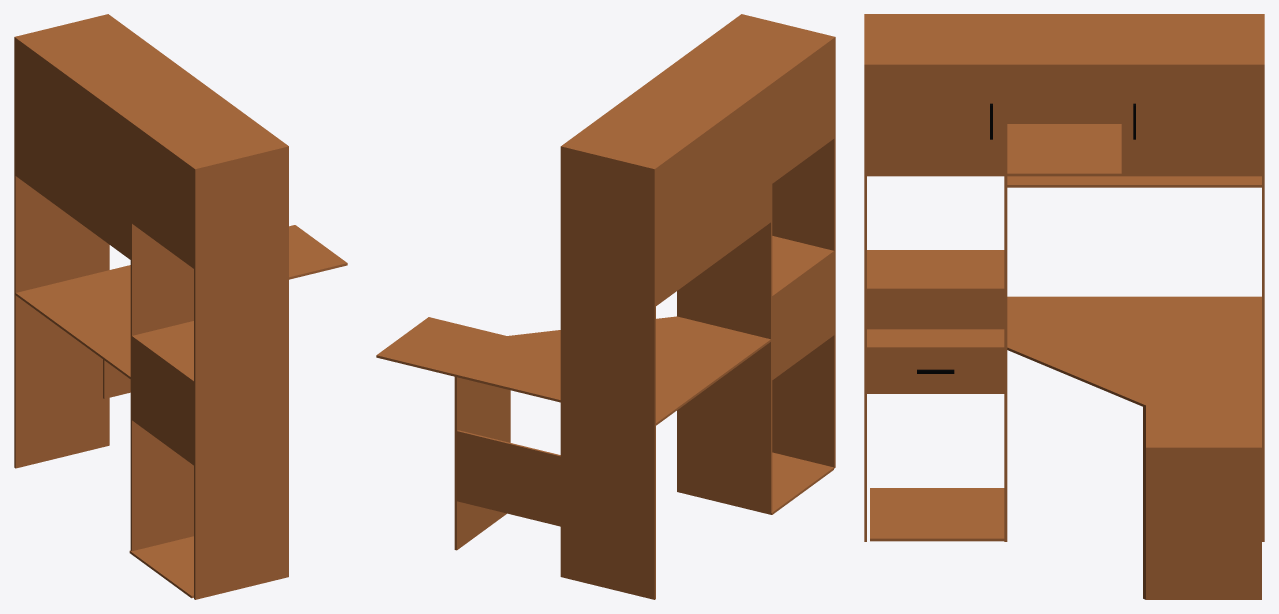
The model's file is computerWorkstation.fbx.
The picture shows the model from 3 angles, left to right: view 1: azimuth 30°, elevation 25°; view 2: azimuth 150°, elevation 25°; view 3: azimuth 270°, elevation 25°; orthographic projection. The views are drawn at different scales.
Parts seen in each view (by area): view 1: Couche:OBJECT015, Couche:OBJECT018, Couche:OBJECT003, Couche:OBJECT006, Couche:OBJECT016, Couche:OBJECT007, Couche:OBJECT001, Couche:OBJECT010, Couche:OBJECT014, Couche:OBJECT017, Couche:OBJECT012, Couche:OBJECT000 (+6 smaller); view 2: Couche:OBJECT018, Couche:OBJECT016, Couche:OBJECT015, Couche:OBJECT001, Couche:OBJECT007, Couche:OBJECT022, Couche:OBJECT010, Couche:OBJECT003, Couche:OBJECT006, Couche:OBJECT014, Couche:OBJECT017, Couche:OBJECT009 (+7 smaller); view 3: Couche:OBJECT007, Couche:OBJECT016, Couche:OBJECT015, Couche:OBJECT009, Couche:OBJECT000, Couche:OBJECT002, Couche:OBJECT013, Couche:OBJECT014, Couche:OBJECT017, Couche:OBJECT005, Couche:OBJECT004, Couche:OBJECT008 (+5 smaller).
Boxes of the visible parts, x1=… form: Couche:OBJECT015: x1=130, y1=99, x2=288, y2=267; Couche:OBJECT018: x1=14, y1=138, x2=109, y2=468; Couche:OBJECT003: x1=194, y1=401, x2=288, y2=599; Couche:OBJECT006: x1=194, y1=247, x2=288, y2=424; Couche:OBJECT016: x1=14, y1=14, x2=172, y2=181; Couche:OBJECT007: x1=15, y1=265, x2=130, y2=378; Couche:OBJECT001: x1=130, y1=377, x2=193, y2=551; Couche:OBJECT010: x1=130, y1=223, x2=193, y2=377; Couche:OBJECT014: x1=79, y1=84, x2=132, y2=219; Couche:OBJECT017: x1=79, y1=61, x2=223, y2=123; Couche:OBJECT012: x1=15, y1=139, x2=130, y2=259; Couche:OBJECT000: x1=132, y1=378, x2=193, y2=465; Couche:OBJECT018: x1=560, y1=247, x2=655, y2=599; Couche:OBJECT016: x1=560, y1=99, x2=719, y2=267; Couche:OBJECT015: x1=677, y1=14, x2=835, y2=181; Couche:OBJECT001: x1=677, y1=338, x2=772, y2=514; Couche:OBJECT007: x1=457, y1=316, x2=770, y2=425; Couche:OBJECT022: x1=457, y1=430, x2=560, y2=526; Couche:OBJECT010: x1=677, y1=184, x2=772, y2=339; Couche:OBJECT003: x1=772, y1=292, x2=835, y2=468; Couche:OBJECT006: x1=772, y1=138, x2=835, y2=292; Couche:OBJECT014: x1=717, y1=84, x2=770, y2=219; Couche:OBJECT017: x1=626, y1=61, x2=770, y2=123; Couche:OBJECT009: x1=454, y1=335, x2=510, y2=550; Couche:OBJECT007: x1=1007, y1=296, x2=1261, y2=406; Couche:OBJECT016: x1=1121, y1=14, x2=1264, y2=173; Couche:OBJECT015: x1=864, y1=14, x2=1007, y2=173; Couche:OBJECT009: x1=1143, y1=404, x2=1261, y2=599; Couche:OBJECT000: x1=867, y1=329, x2=1004, y2=393; Couche:OBJECT002: x1=870, y1=488, x2=1004, y2=541; Couche:OBJECT013: x1=864, y1=124, x2=1264, y2=176; Couche:OBJECT014: x1=1007, y1=14, x2=1121, y2=123; Couche:OBJECT017: x1=1007, y1=14, x2=1121, y2=67; Couche:OBJECT005: x1=867, y1=250, x2=1004, y2=291; Couche:OBJECT004: x1=867, y1=291, x2=1004, y2=329; Couche:OBJECT008: x1=1146, y1=405, x2=1261, y2=450.
Size of the model in its own units: 2.51 by 3.68 by 2.8.
